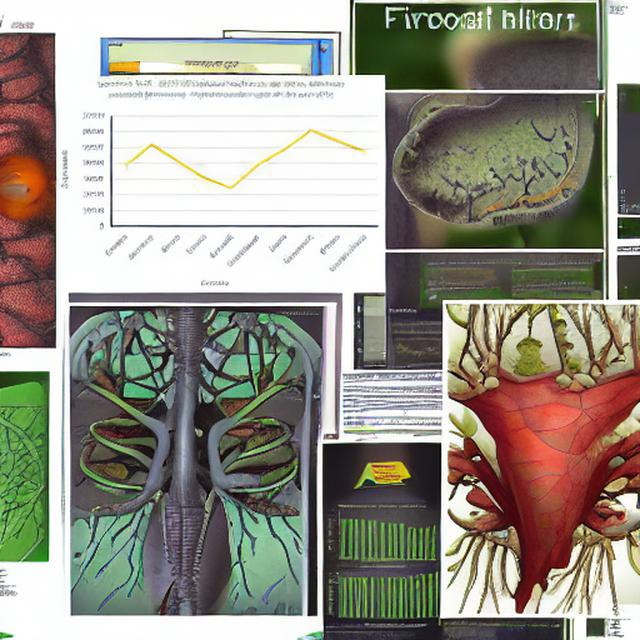Graph: (57, 78, 384, 290), (325, 502, 441, 572), (388, 336, 443, 370)
